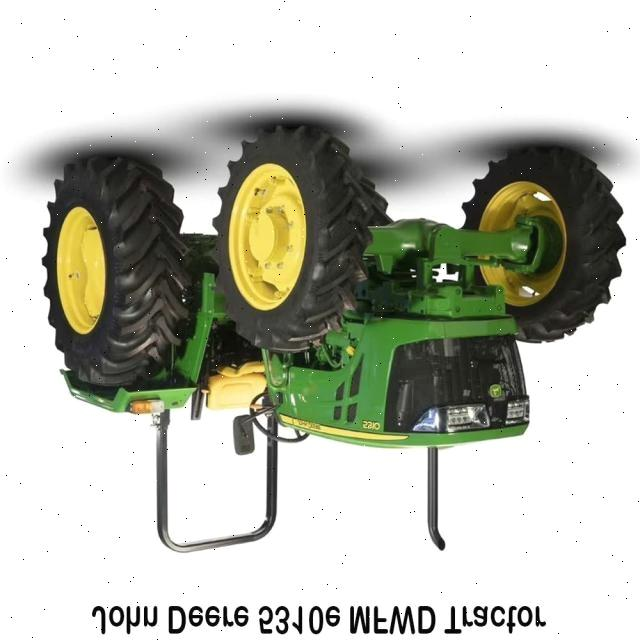Tratores - v5 YOLO V8L 2024-11-13: (35, 102, 630, 560)
